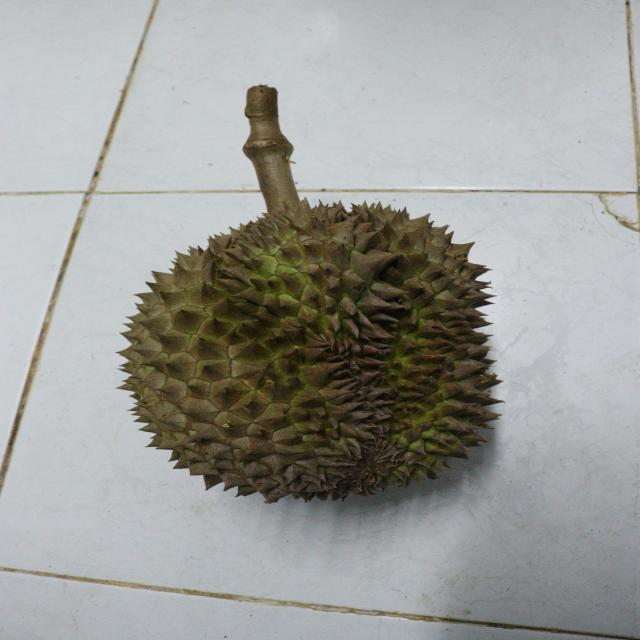mature: (114, 193, 504, 499)
